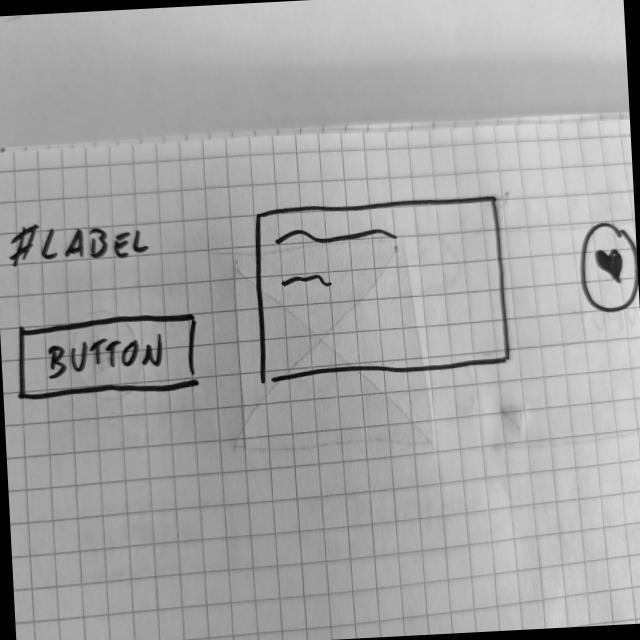button: (14, 310, 206, 408)
icon-button: (576, 220, 640, 320)
label: (7, 215, 154, 276)
textarea: (249, 190, 516, 389)
